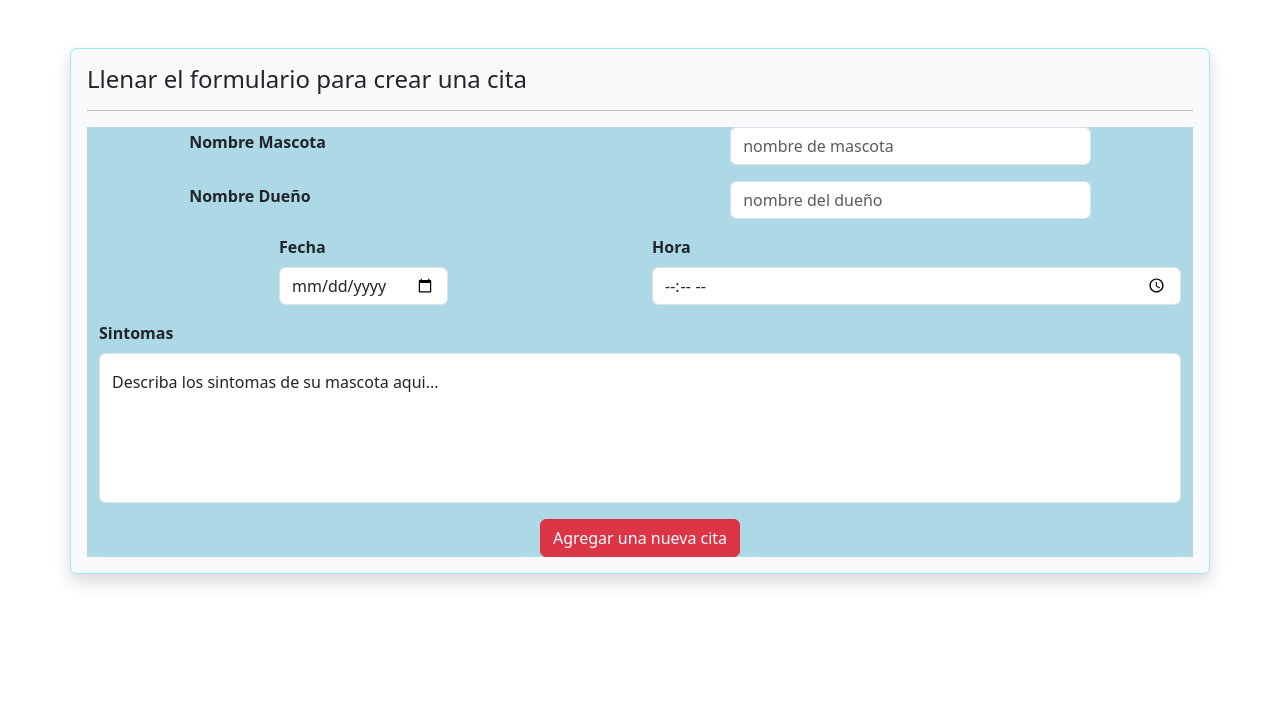
Formulario Veterinaria › Deberia agregar una nueva cita al enviar el formulario
In the field named "mascota": (911, 146) [730, 127, 1091, 165], type "Homero"
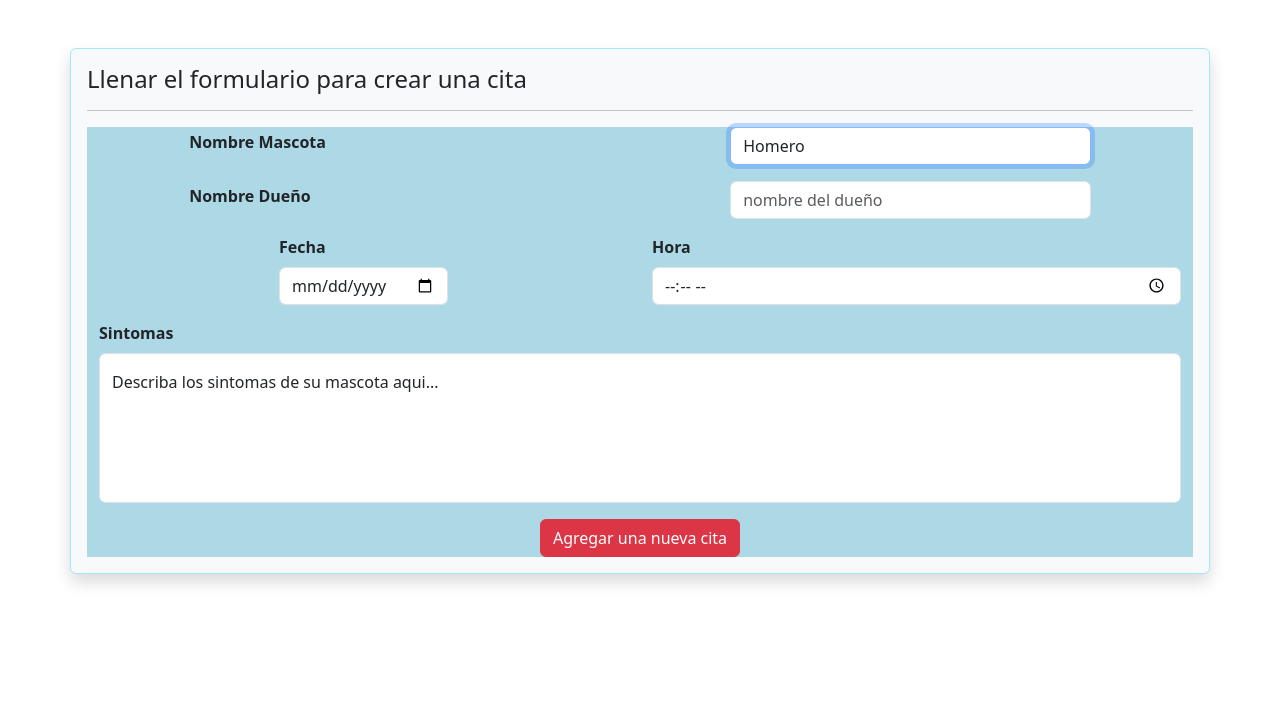
In the field named "duenio": (911, 200) [730, 181, 1091, 219], type "Diego"
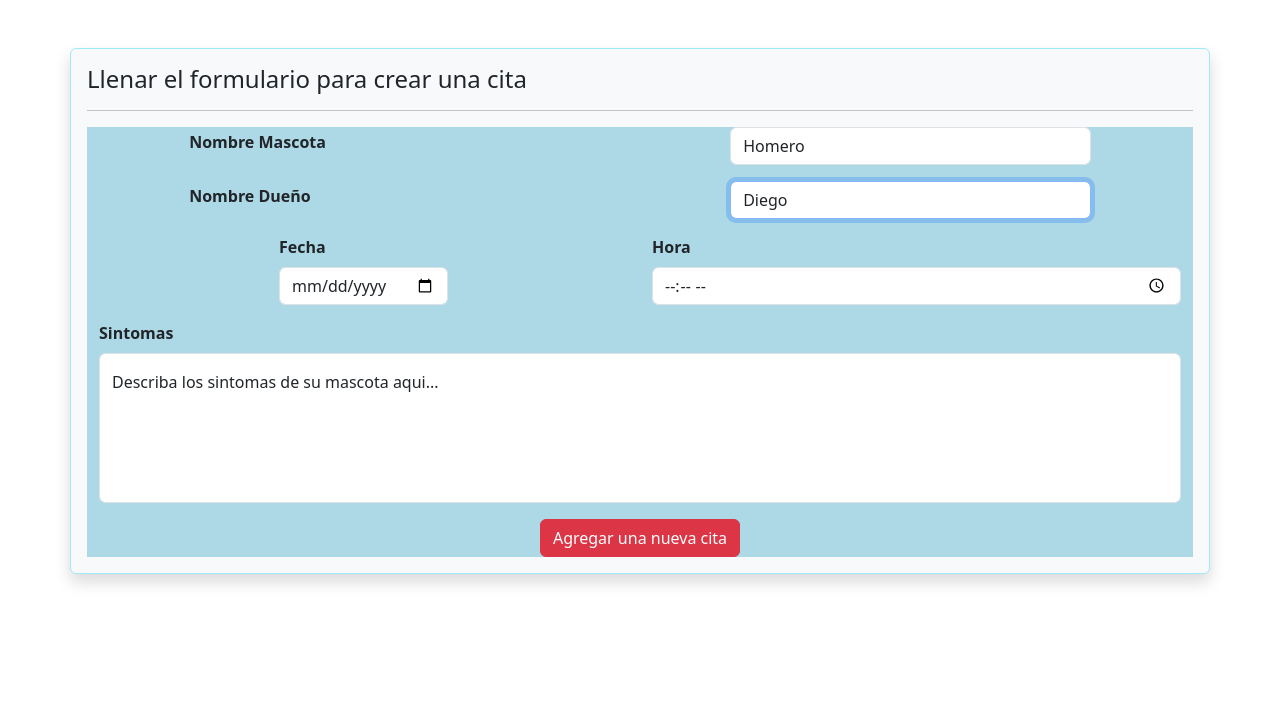
In the date field named "fecha": (364, 286) [279, 267, 448, 305], type "2023-11-02"
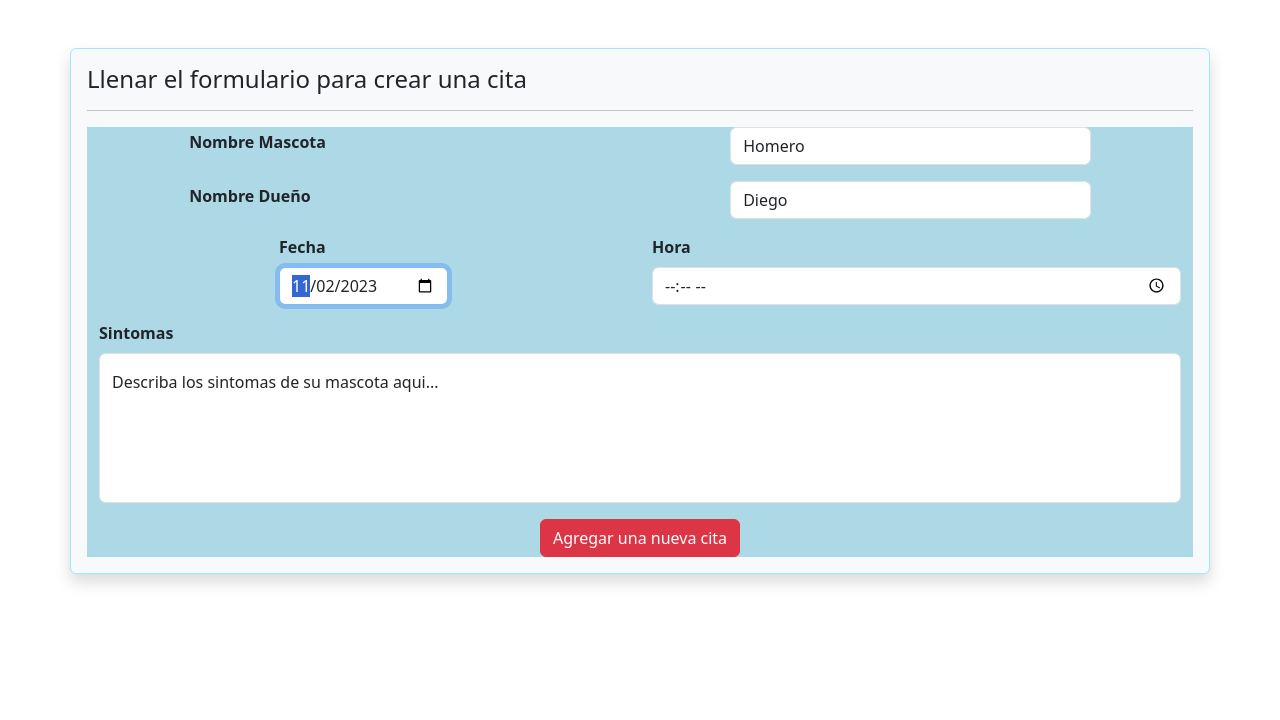
In the time field named "hora": (917, 286) [652, 267, 1181, 305], type "10:00"
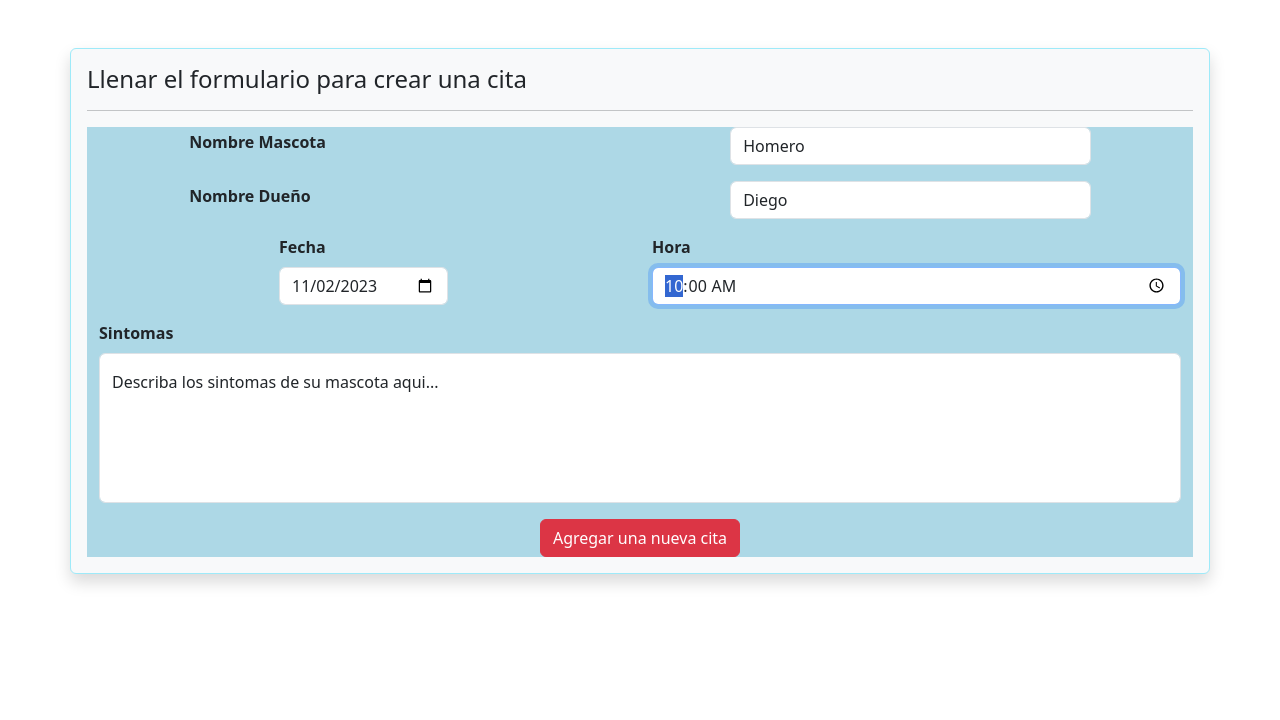
In the text box named "sintomas": (640, 428) [99, 353, 1181, 503], type "Sintomas de la mascota"
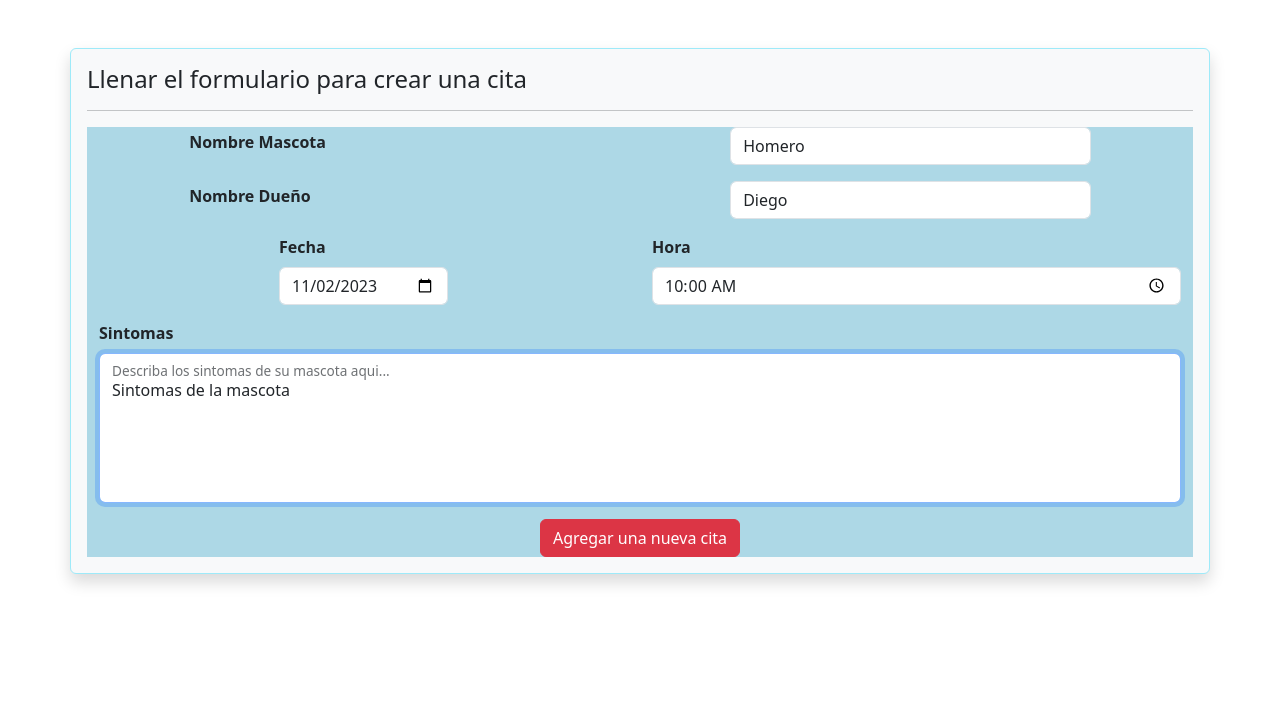
Click the submit button: click(640, 538) [540, 519, 740, 557]
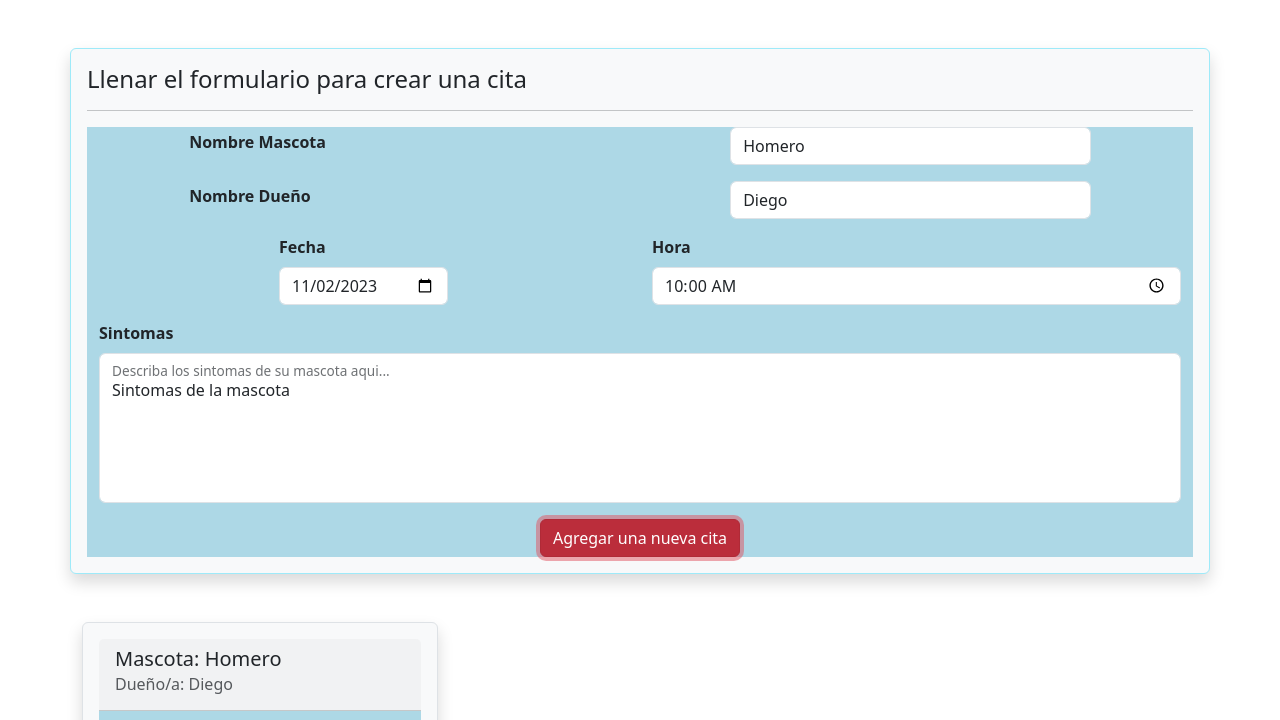
Check: the text "Homero" is shown, box [205, 645, 282, 672]
